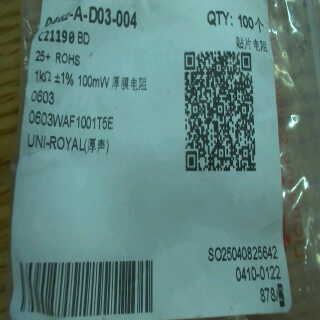1kR: (32, 67, 51, 85)
